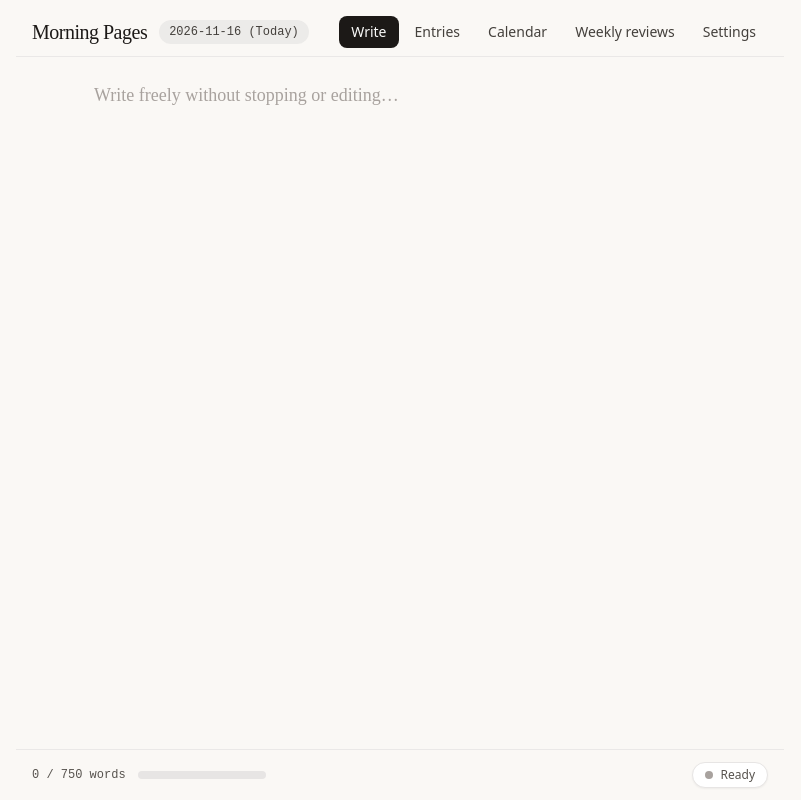
Test: Brief 4: Morning Pages writing experience & autosave resilience › opens on today local date, updates live word count toward the 750-word goal, and allows switching between Write, Entries list, and Calendar views
The image size is (801, 800).
Expected: the text named "Active entry date" reads "2026-11-16 (Today)", 159,20 -> 309,44
Type "One two three four five six" into the text box named "Journal entry for 2026-11-16" at (400, 403), box 94,81 -> 706,725
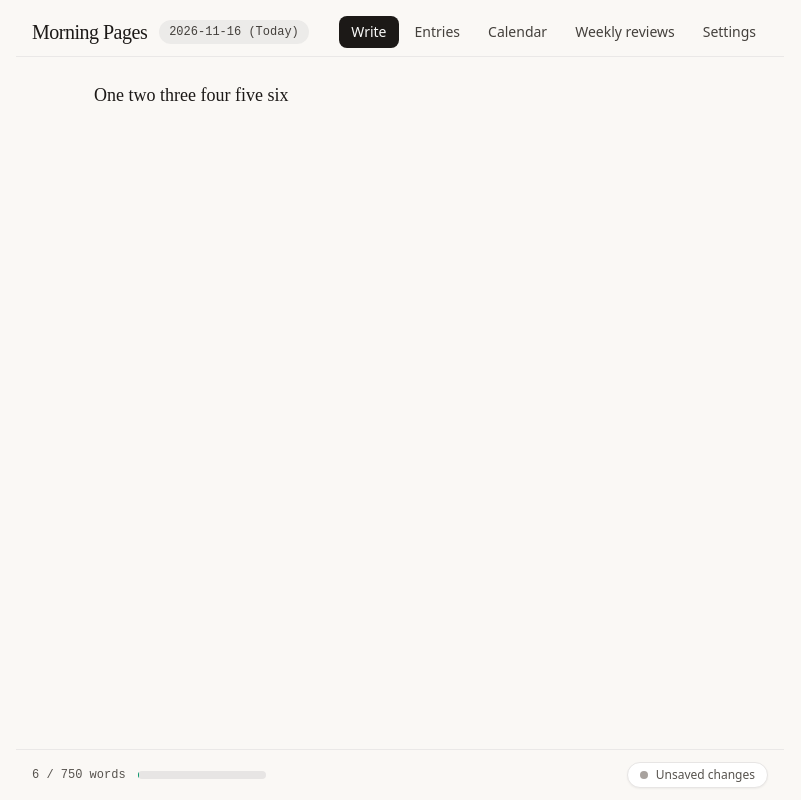
Expected: the text "6 / 750 words" is shown, 32,767 -> 126,783
Switch to Calendar view and tap 2026-11-14
Click the button "Calendar" at (518, 32), box 476,16 -> 559,48
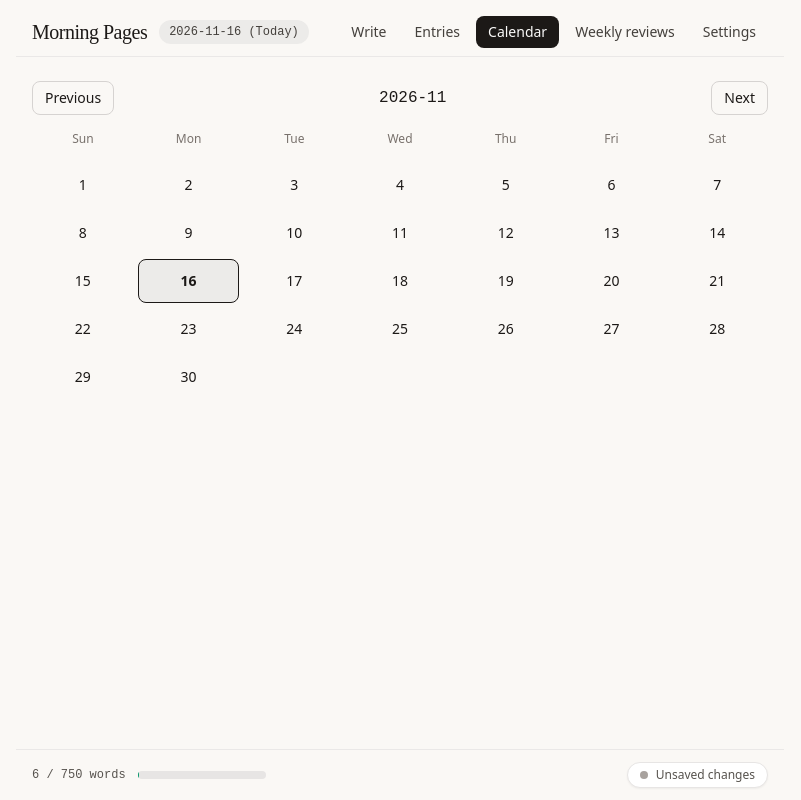
Click the button named "Open entry for 2026-11-14" at (717, 233), box 666,211 -> 768,255
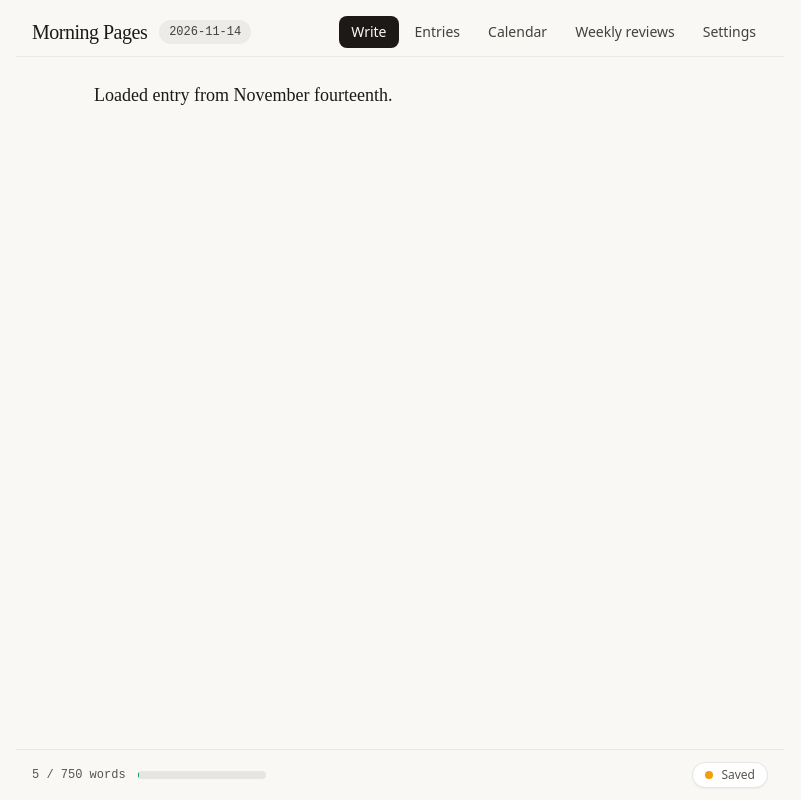
Expected: the text named "Active entry date" reads "2026-11-14", 169,25 -> 241,39
Expected: the text box named "Journal entry for 2026-11-14" holds "Loaded entry from November fourteenth."
